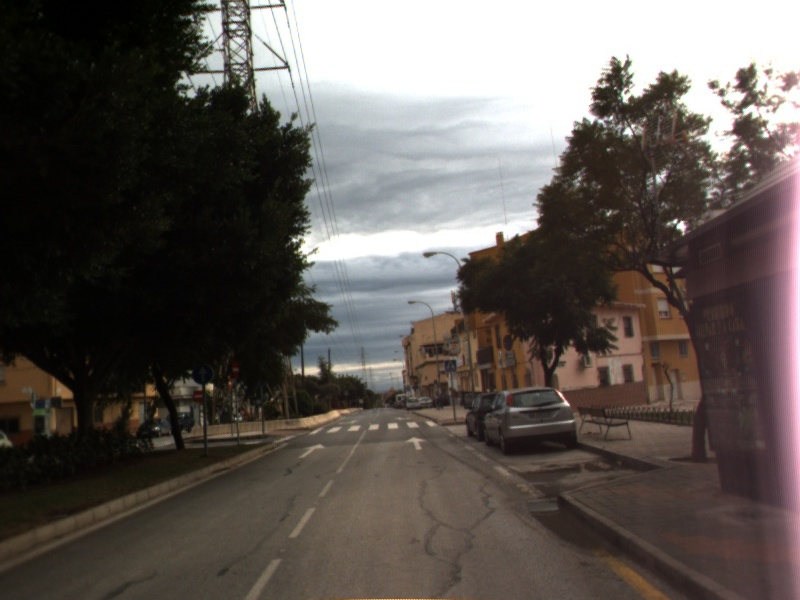STRAIGHT: (296, 441, 328, 460), (404, 435, 429, 452)
